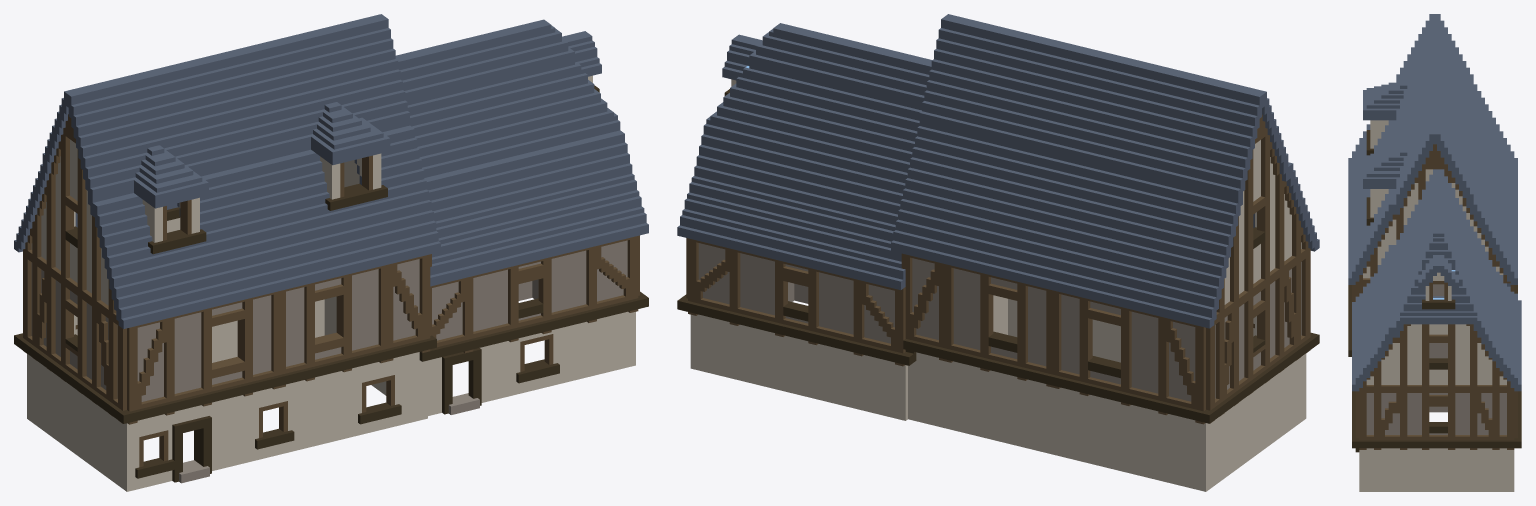
Rendered from House-2-VC_Test_House_2.obj.
3 renders of one model, left to right at view 1: azimuth 30°, elevation 25°; view 2: azimuth 150°, elevation 25°; view 3: azimuth 270°, elevation 25°, orthographic. The views are drawn at different scales.
Parts seen in each view (by area): view 1: VC_Test_House_2; view 2: VC_Test_House_2; view 3: VC_Test_House_2.
Part boxes in pixels (<box>): VC_Test_House_2: <box>14,14,648,491</box>; VC_Test_House_2: <box>677,14,1319,491</box>; VC_Test_House_2: <box>1348,14,1521,491</box>.
Bounding box in the file's own units: 12.8 × 8.4 × 4.7.
1 material, 1 textured.
